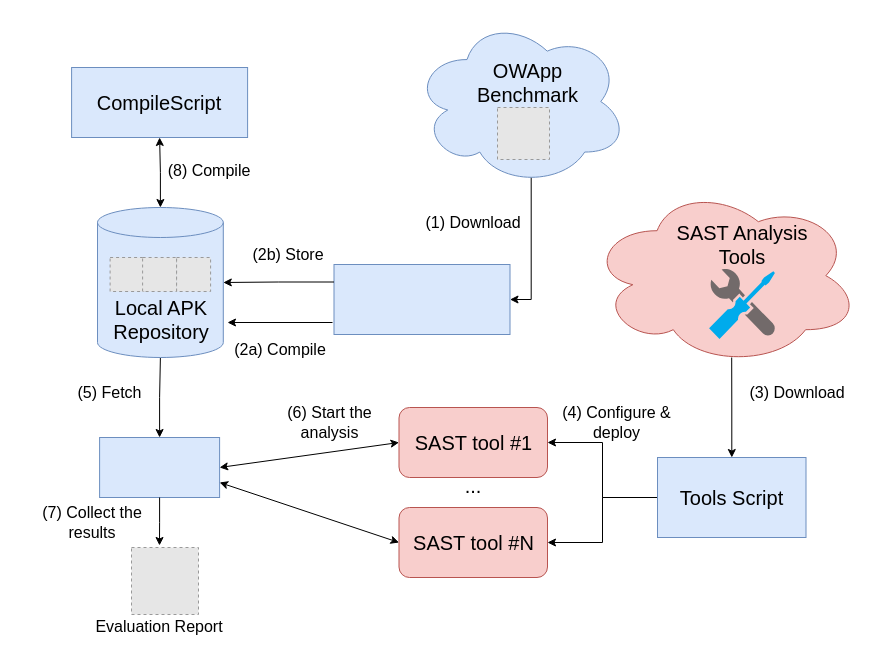
Some shapes in this 877 by 659 pixel diagram are drawn without their labels. Grey dashed boxes stand in for pictures. The box of each missing label's shape, as (x1, y1, x2, y2) in pixels:
Download Script: (333, 264, 510, 334)
Running Script: (99, 436, 220, 498)
